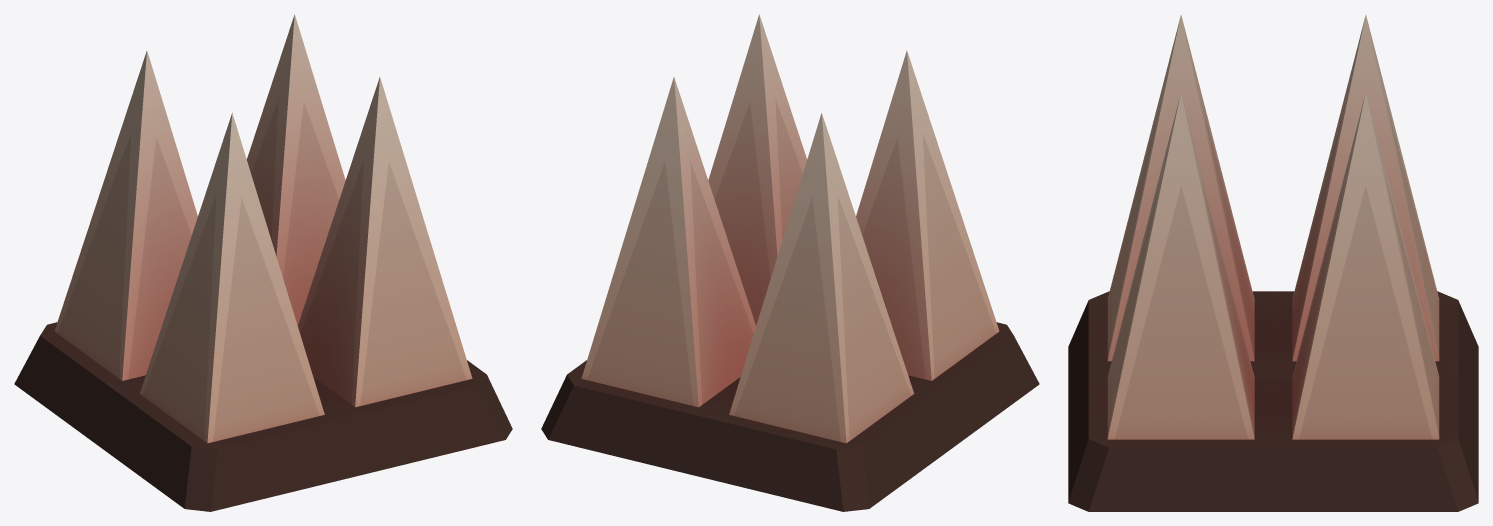
The model's file is Spikes.FBX.
3 views of the same model, side by side, from view 1: azimuth 30°, elevation 25°; view 2: azimuth 150°, elevation 25°; view 3: azimuth 270°, elevation 25° (orthographic). The views are drawn at different scales.
Parts seen in each view (by area): view 1: Spikes; view 2: Spikes; view 3: Spikes.
Part boxes in pixels (x1,y1,x2,y2): Spikes: (14, 14, 512, 511); Spikes: (541, 14, 1039, 511); Spikes: (1068, 14, 1478, 511).
Bounding box in the file's own units: 100 × 100 × 100.
